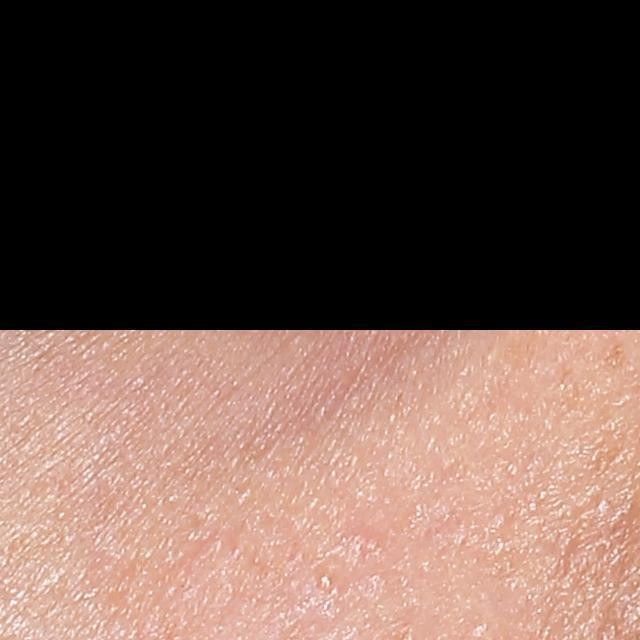comedo: (313, 569, 341, 593)
melasma: (600, 340, 634, 376)
